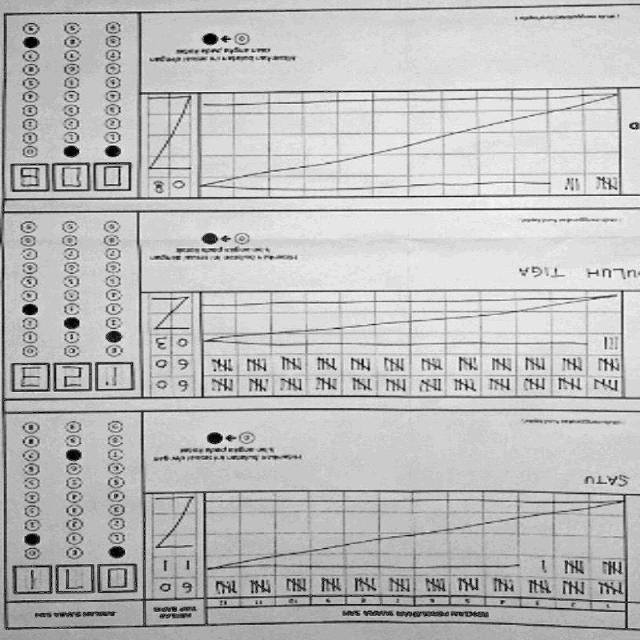Suara: (7, 360, 137, 395), (11, 562, 141, 596), (6, 160, 135, 194)
